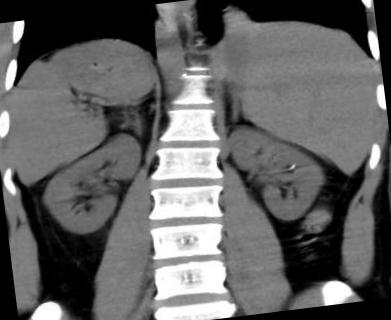Tas_Var: (285, 162, 298, 170)
